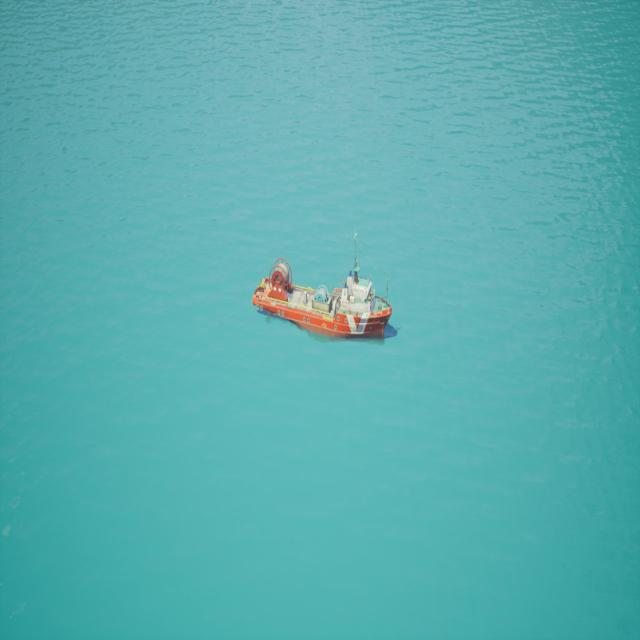tug boat: (254, 224, 386, 390)
